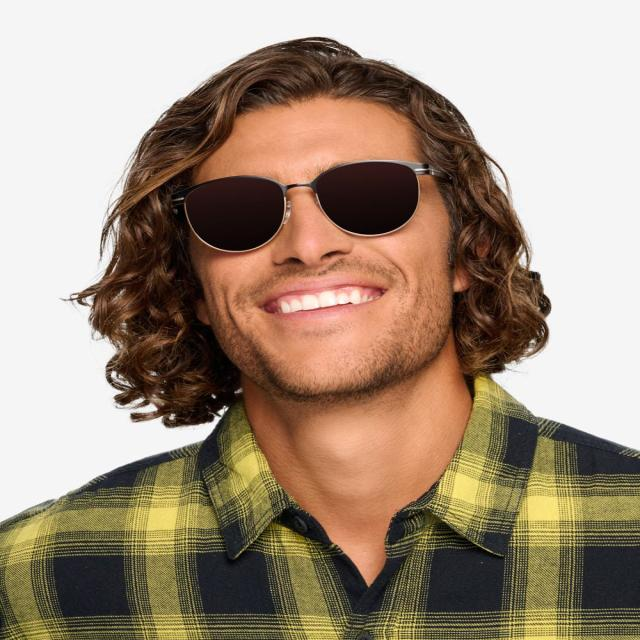2_gafas: (168, 158, 452, 254)
